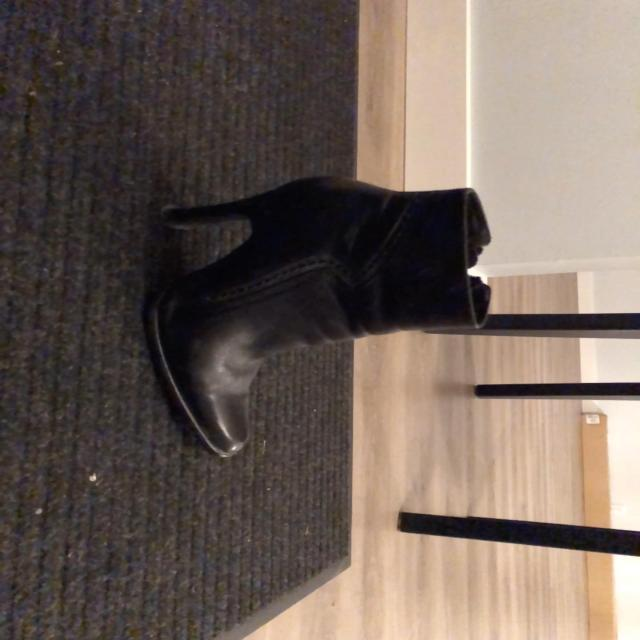shoe: (142, 177, 492, 460)
